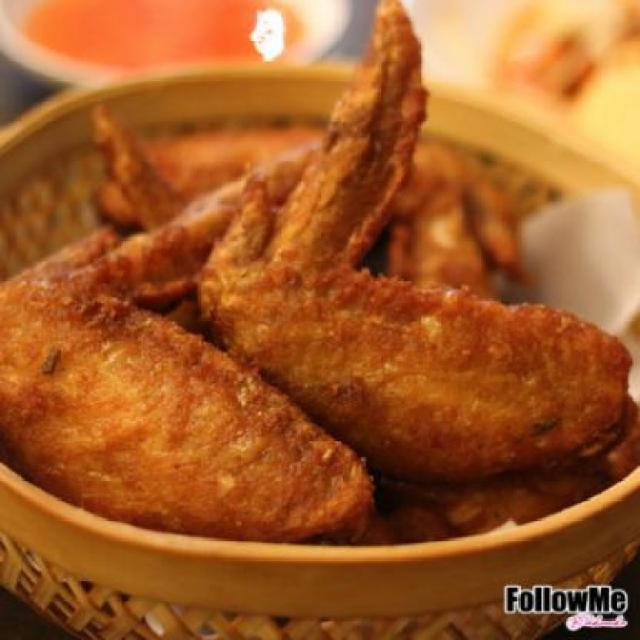Deep fried chicken wing: (19, 48, 632, 524)
